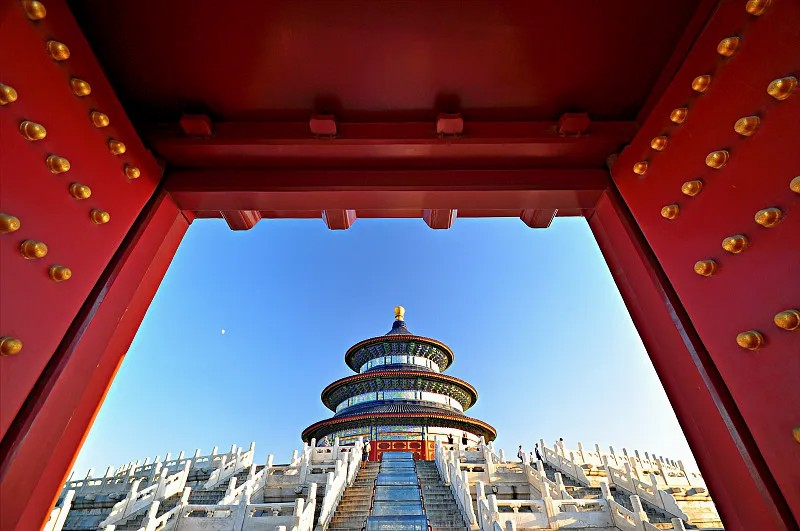Heaven: (300, 305, 496, 461)
